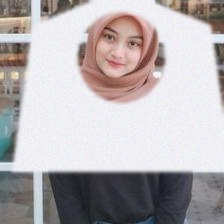Mukena: (12, 0, 224, 172)
